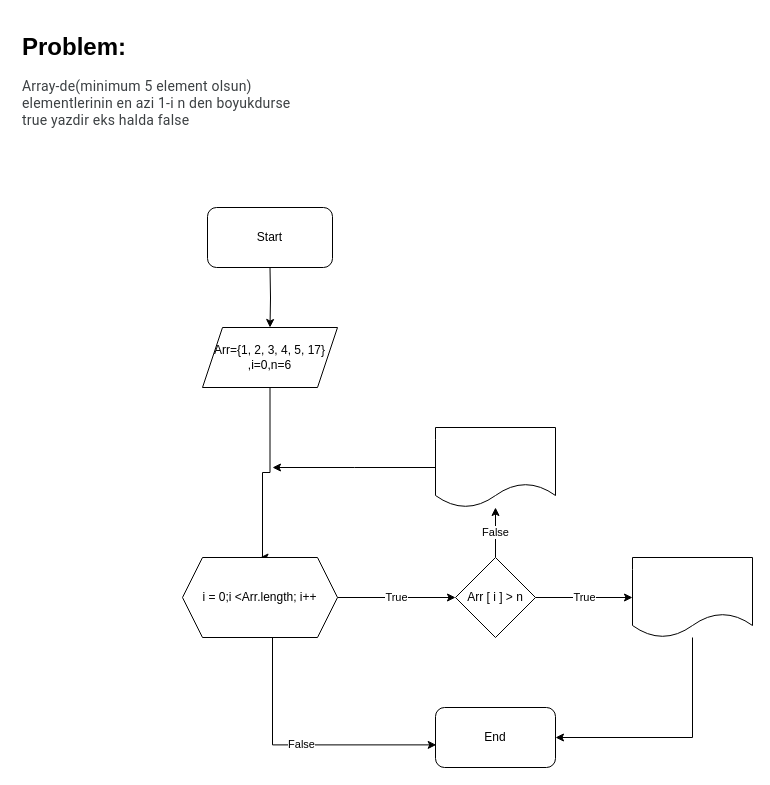
The diagram is 770 pixels wide and 785 high, and some of its shapes have lost their labels. Here are the shapes that lost their labels. From the top down, the centre of each, then its label:
[495,467]: print(" False")
[692,597]: print ("True")
